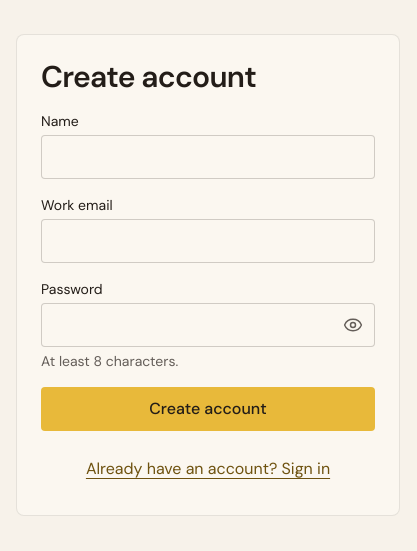
Test: SignUpPage › an empty error message falls back to a generic one and does not navigate
The width and height of the screenshot is (417, 551).
Step 1. Type "Van" into the field labelled "Name" → (208, 157), box [41,135,375,179]
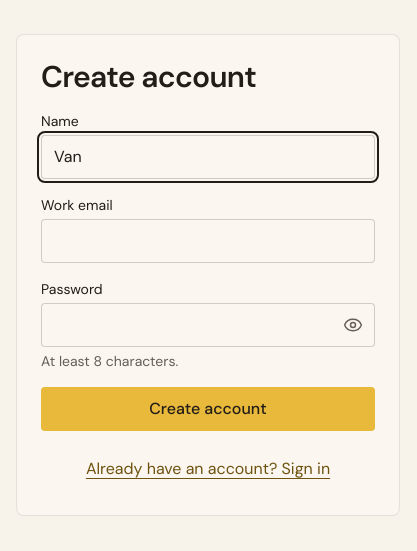
Step 2. Type "van@example.com" into the field labelled "Work email" → (208, 241), box [41,219,375,263]
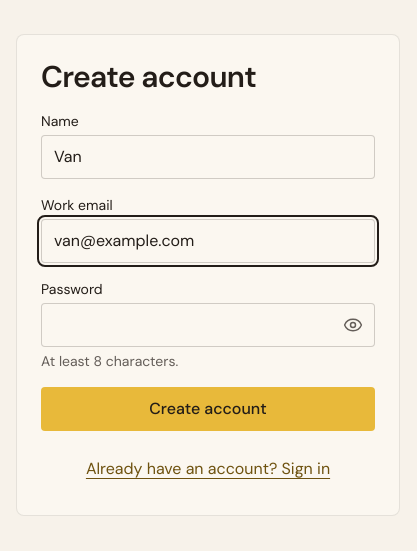
Step 3. Type "correct-horse" into the password field labelled "Password" → (208, 325), box [41,303,375,347]
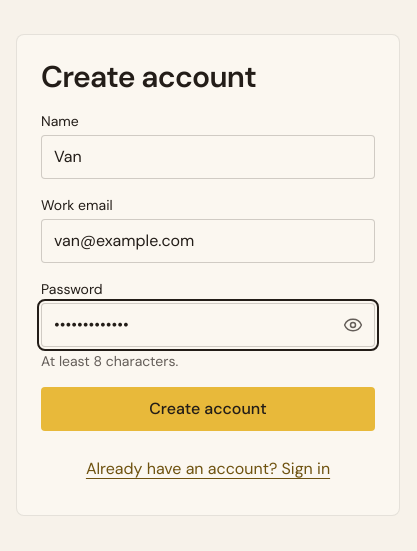
Step 4. Click the button "Create account" → (208, 409), box [41,387,375,431]
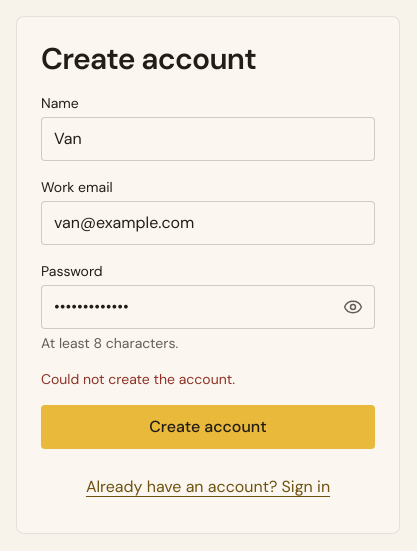
Check: the button "Create account" is enabled, box [41,405,375,449]
Check: the message reads "Could not create the account.", box [41,370,235,388]
